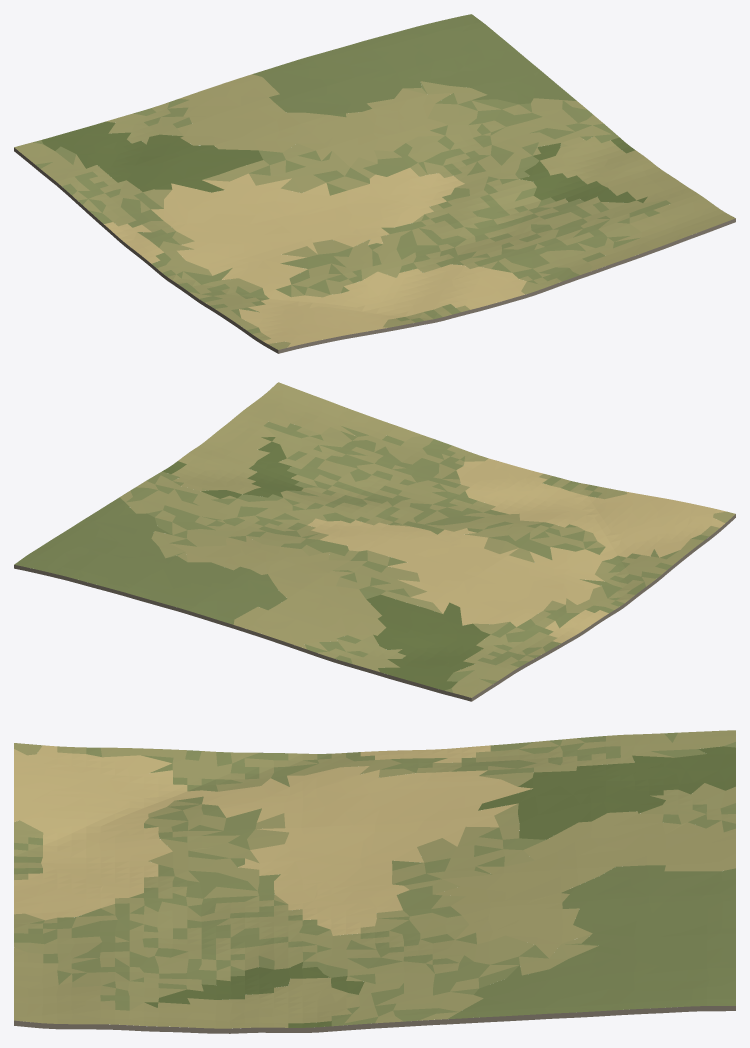
File: parca_+1_-4-uzak.glb
3 renders of one model, top to bottom at view 1: azimuth 30°, elevation 25°; view 2: azimuth 150°, elevation 25°; view 3: azimuth 270°, elevation 25°, orthographic. The views are drawn at different scales.
Parts seen in each view (by area): view 1: parca_+1_-4_arazi_uzak; view 2: parca_+1_-4_arazi_uzak; view 3: parca_+1_-4_arazi_uzak.
Part boxes in pixels (bbox=[...]): parca_+1_-4_arazi_uzak: bbox=[14, 14, 735, 353]; parca_+1_-4_arazi_uzak: bbox=[14, 382, 735, 701]; parca_+1_-4_arazi_uzak: bbox=[14, 730, 735, 1033].
Size of the model in its own units: 1000 by 91.4 by 1000.
